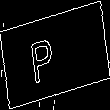P_N: (41, 26, 69, 84)
